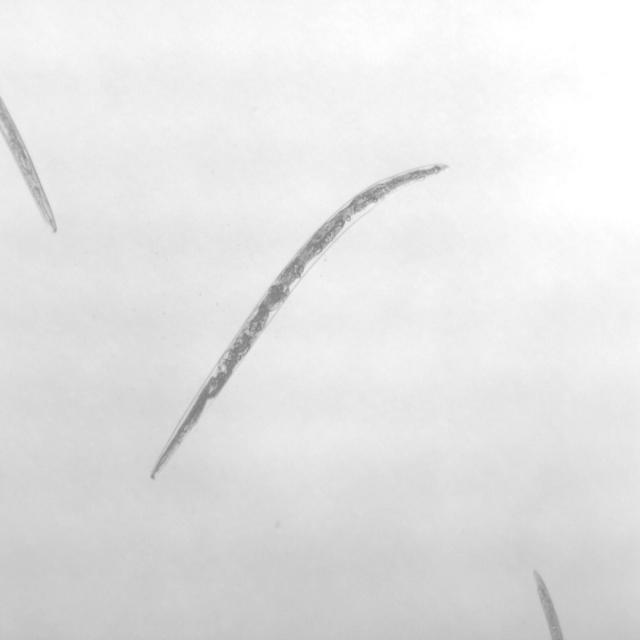Pratylenchus: (145, 152, 455, 480)
